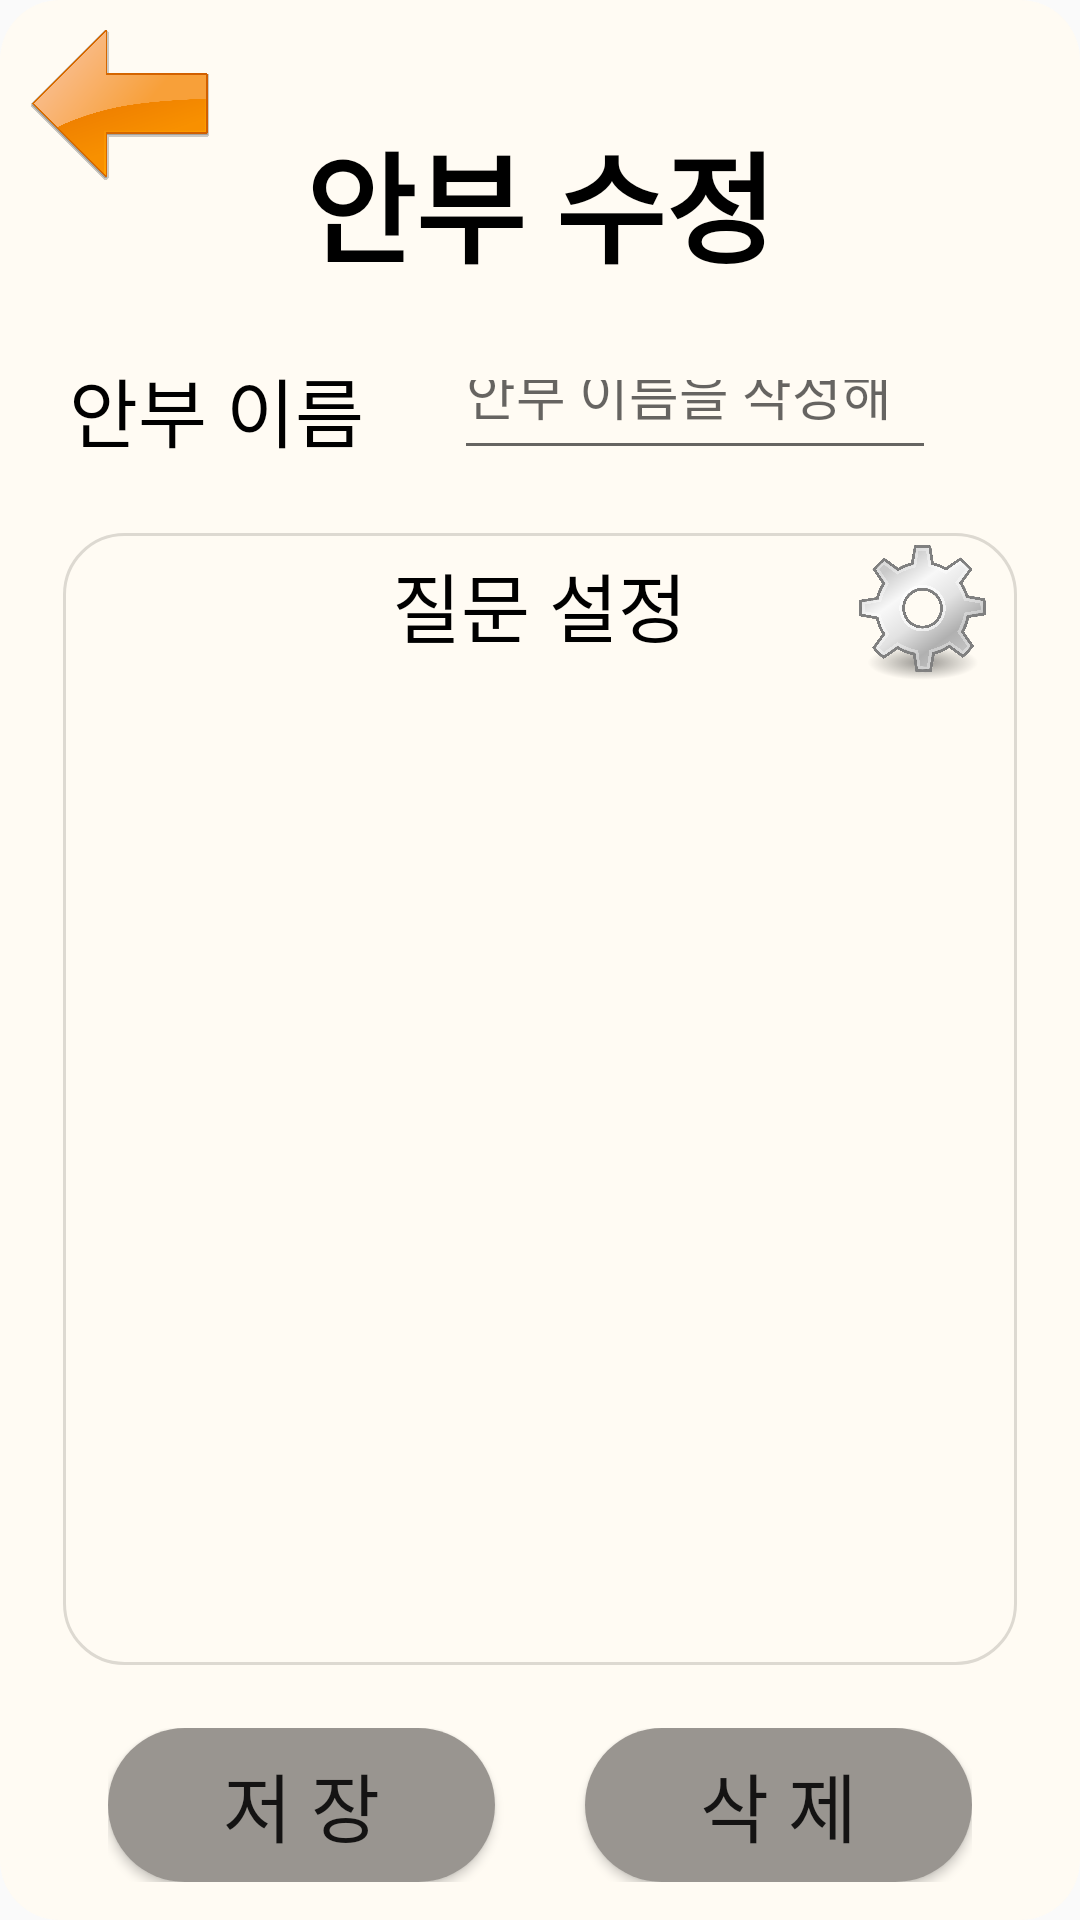

Named icons in this screenshot (1080×1920) and their centers, (x,y):
backbtn: (120,105)
optionbtn: (922,610)
